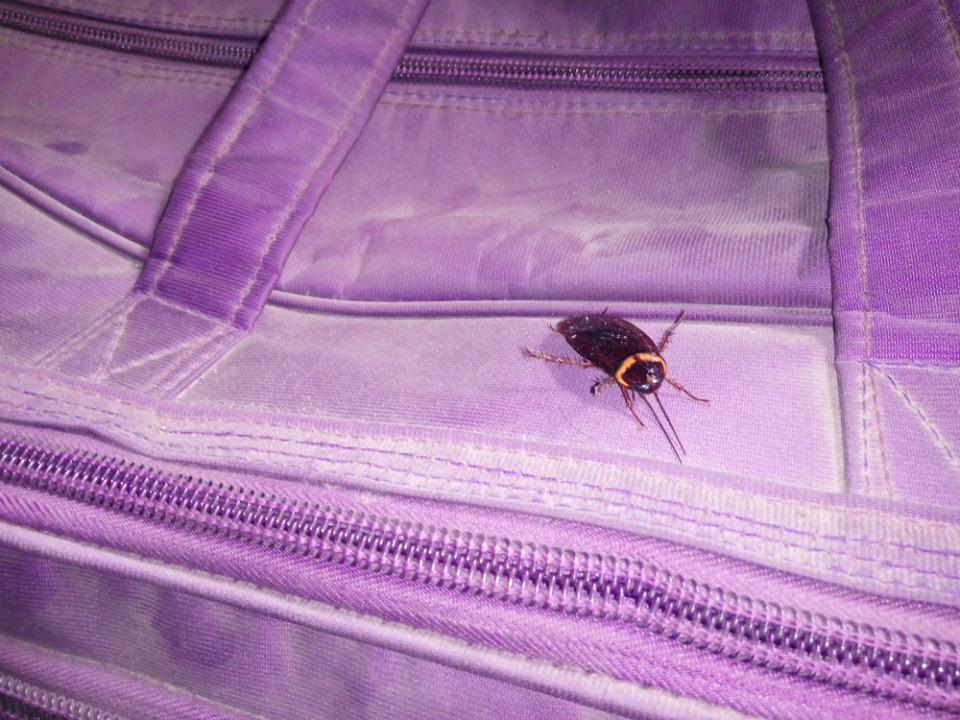cockroach: (435, 260, 748, 456)
